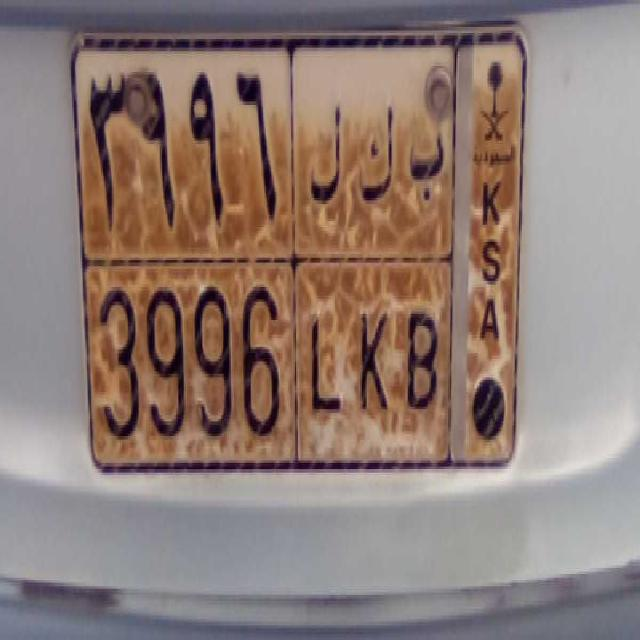license_plate: (82, 252, 450, 468)
